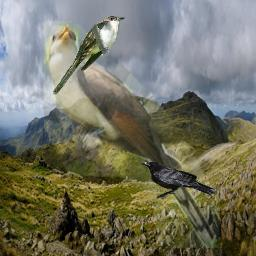Crow: (140, 161, 216, 200)
Cuckoo: (44, 21, 220, 248), (52, 15, 125, 96)
